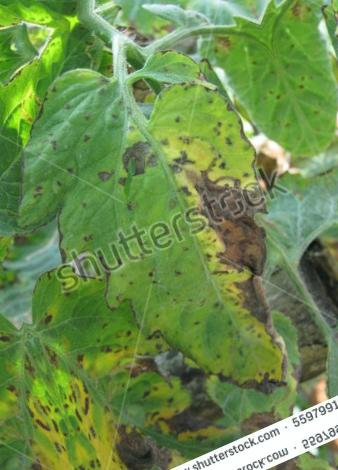Tomato leaf bacterial spot: (0, 2, 338, 470), (10, 226, 238, 470)
